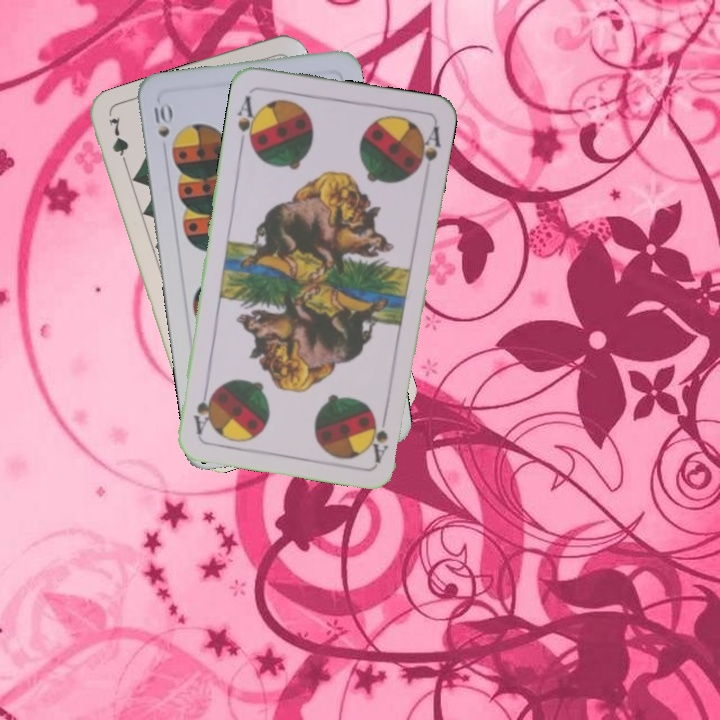G7: (104, 112, 131, 172)
S10: (150, 101, 173, 140)
SA: (233, 92, 261, 150), (367, 406, 390, 465)
